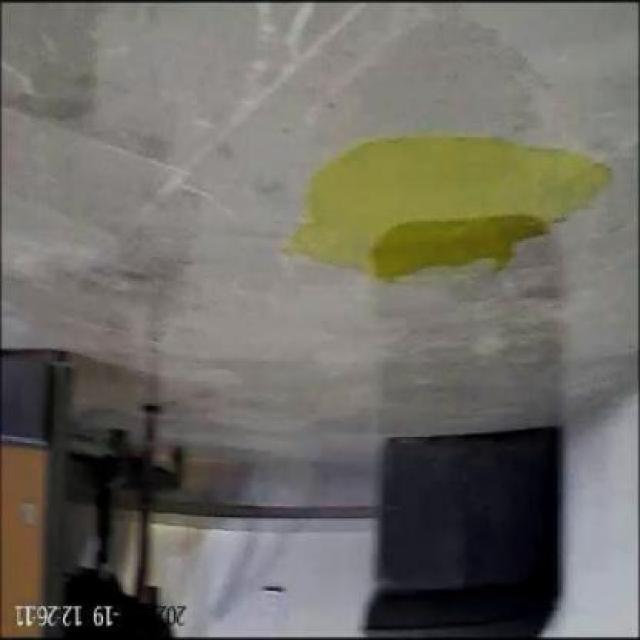spillage: (285, 134, 613, 280)
